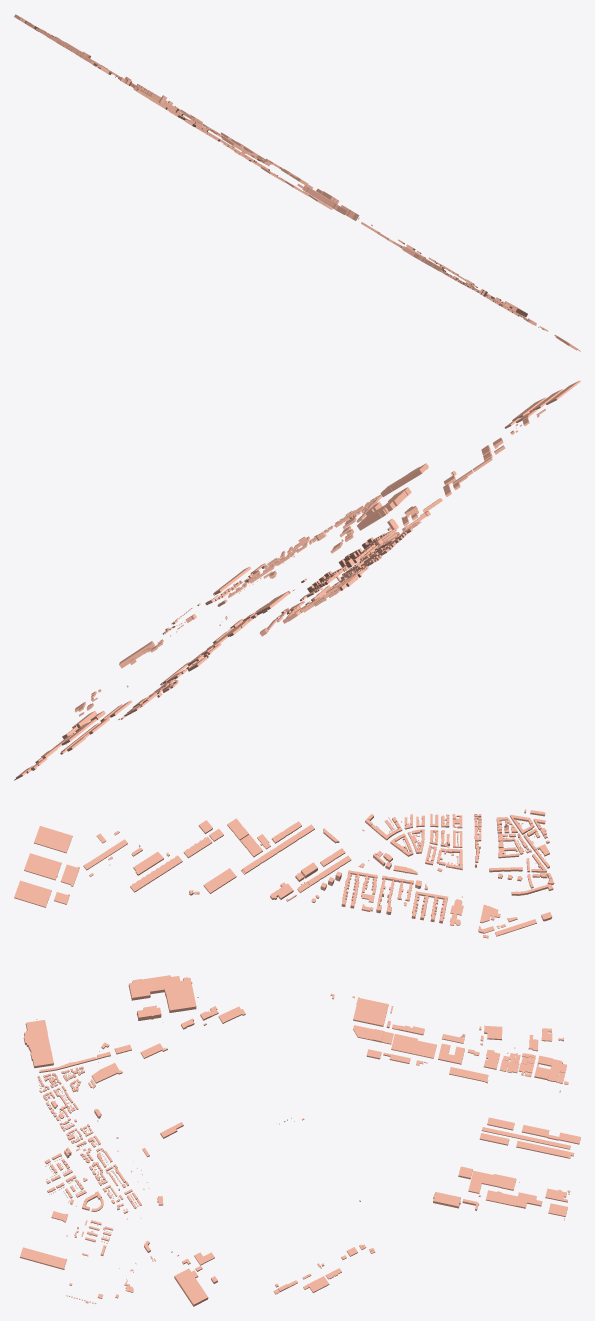
3 renders of one model, top to bottom at view 1: azimuth 30°, elevation 25°; view 2: azimuth 150°, elevation 25°; view 3: azimuth 270°, elevation 25°, orthographic. The views are drawn at different scales.
Bounding box in the file's own units: 2073 × 1531 × 2564.
